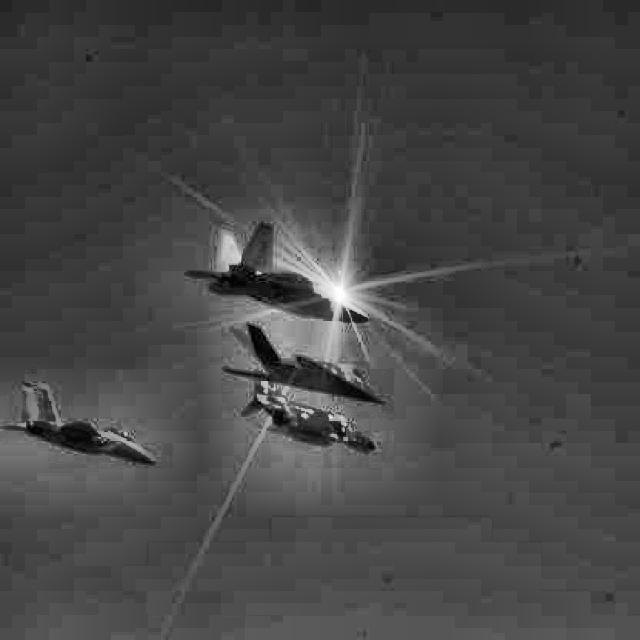F117: (222, 322, 387, 407)
F15: (1, 379, 157, 467)
F22: (185, 220, 369, 323)
F4: (240, 368, 380, 454)
